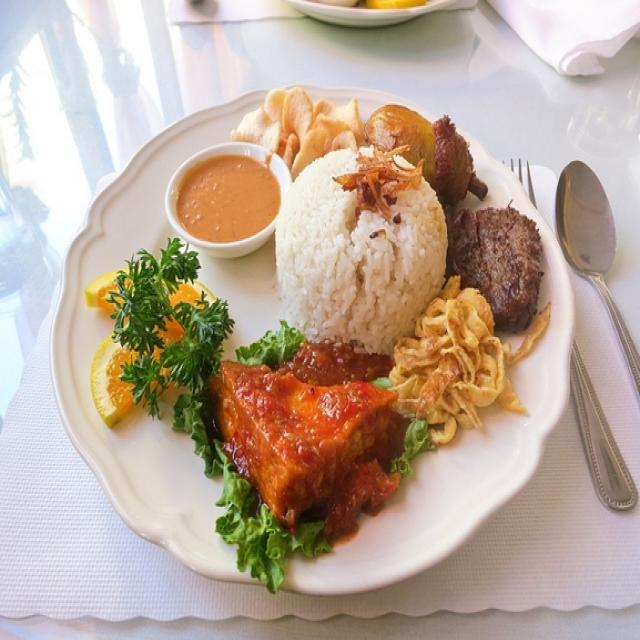米饭主食: (60, 68, 561, 584)
